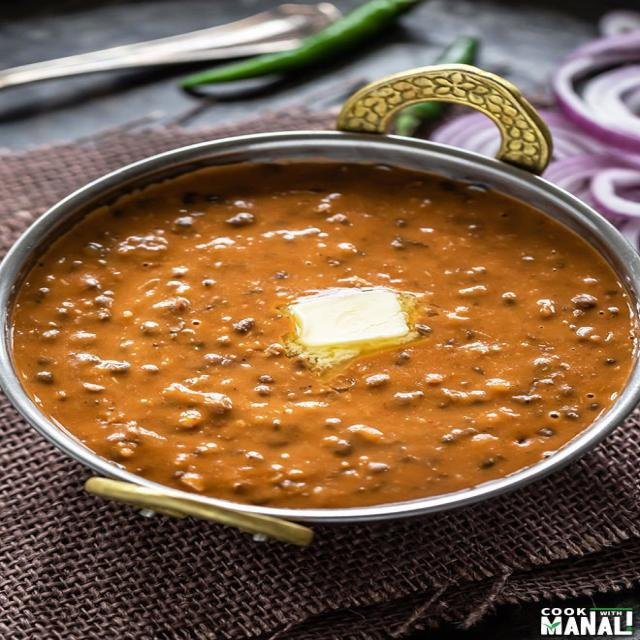dal_makhani: (2, 140, 640, 538)
